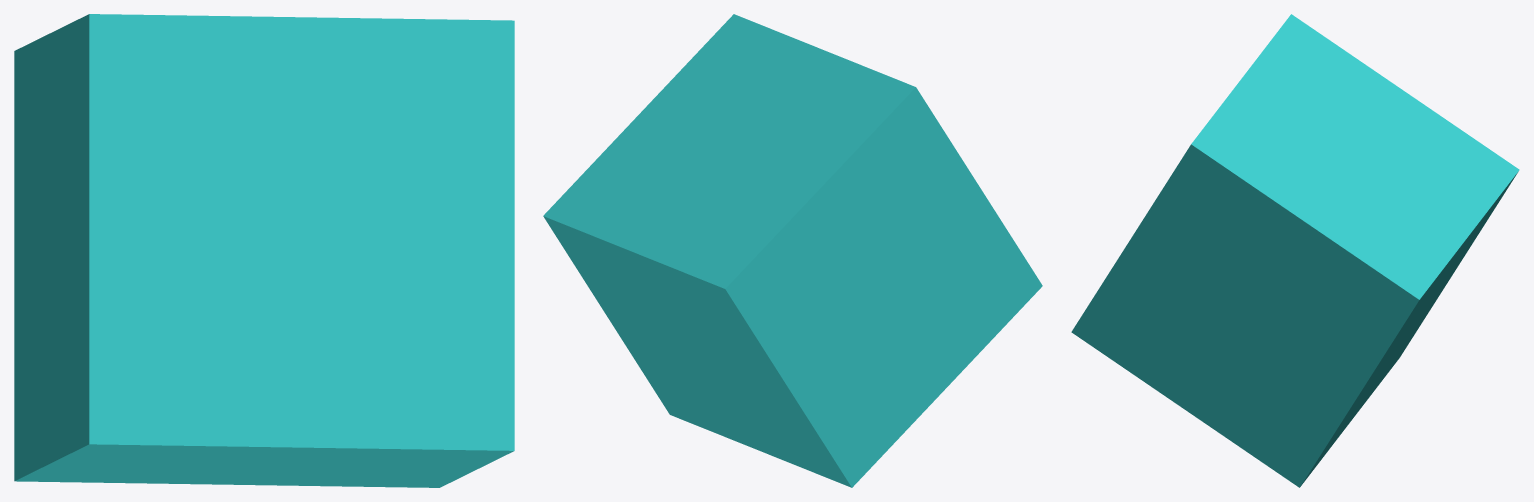
The picture shows the model from 3 angles, left to right: view 1: azimuth 30°, elevation 25°; view 2: azimuth 150°, elevation 25°; view 3: azimuth 270°, elevation 25°; orthographic projection. The views are drawn at different scales.
Visible parts, largest first — view 1: 立方体; view 2: 立方体; view 3: 立方体.
Part boxes in pixels (x1,y1,x2,y2): 立方体: [14, 14, 514, 487]; 立方体: [543, 14, 1042, 487]; 立方体: [1071, 14, 1519, 487].
Size of the model in its own units: 291 by 289 by 324.
